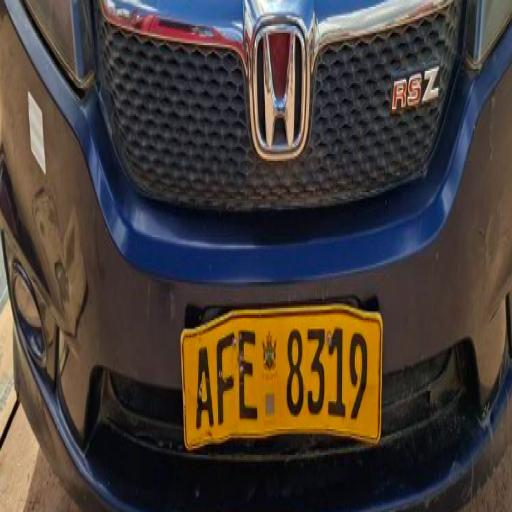number-plates: (179, 321, 375, 434)
